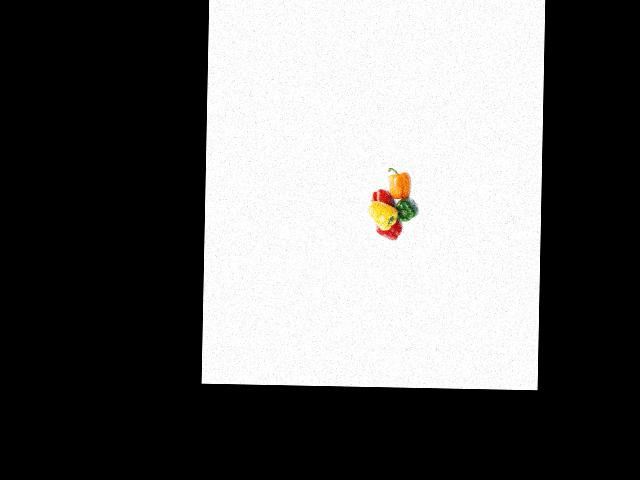bell_pepper: (388, 196, 422, 227)
